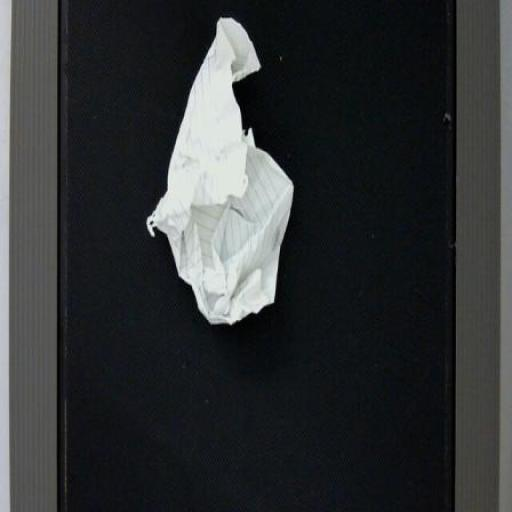paper: (108, 0, 323, 419)
